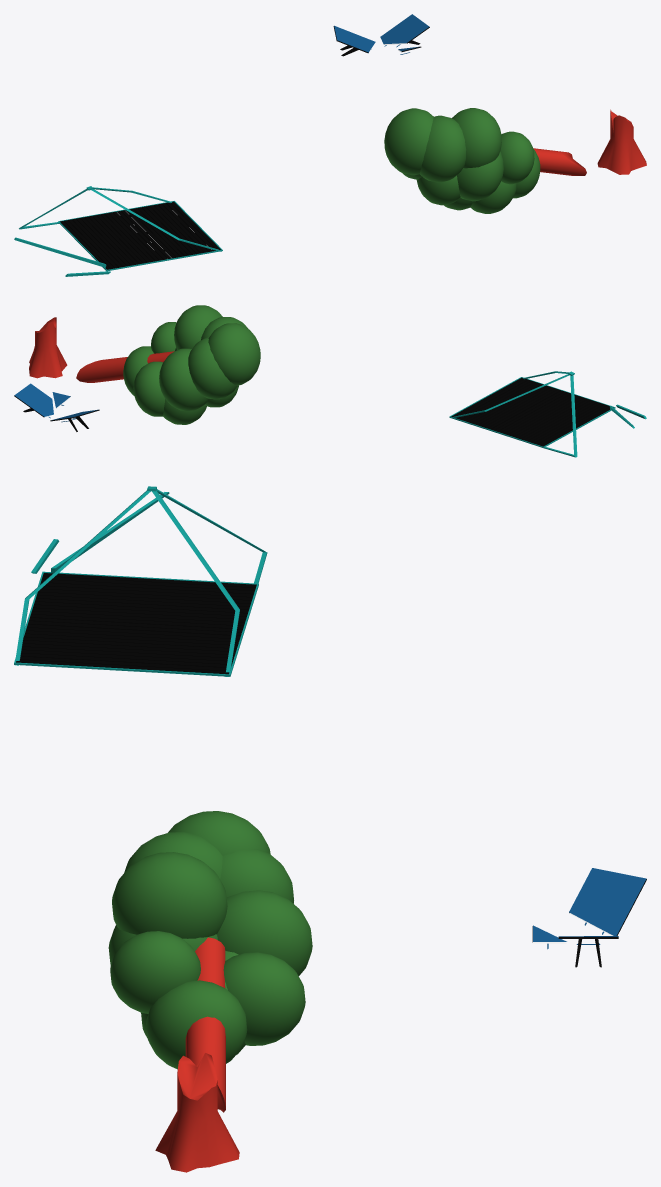
The model's file is Mobilier_Cassé_export_Final_01.FBX.
3 views of the same model, one above another, from view 1: azimuth 30°, elevation 25°; view 2: azimuth 150°, elevation 25°; view 3: azimuth 270°, elevation 25° (orthographic). The views are drawn at different scales.
Visible parts, largest first — view 1: arbre low poly cassé, Kiosque cassé, Table cassée cuisine P3; view 2: arbre low poly cassé, Kiosque cassé, Table cassée cuisine P3; view 3: arbre low poly cassé, Kiosque cassé, Table cassée cuisine P3.
Boxes of the visible parts, x1,y1,x2,y2 form: arbre low poly cassé: (384, 108, 646, 213); Kiosque cassé: (14, 186, 222, 276); Table cassée cuisine P3: (333, 14, 429, 56); arbre low poly cassé: (29, 305, 260, 424); Kiosque cassé: (449, 371, 646, 457); Table cassée cuisine P3: (14, 383, 99, 431); arbre low poly cassé: (108, 811, 312, 1172); Kiosque cassé: (14, 486, 267, 676); Table cassée cuisine P3: (532, 868, 646, 967).
Bounding box in the file's own units: 3774 × 755 × 1875.
